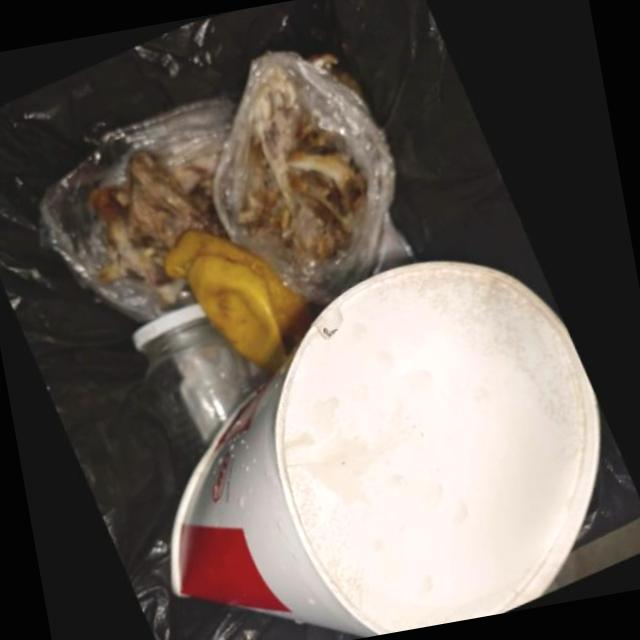carton: (171, 256, 606, 637)
chai_thuy_tinh: (136, 296, 257, 443)
thuc_an_thua: (242, 60, 373, 255), (95, 131, 233, 294)
tui_ni_long: (217, 39, 423, 309), (45, 95, 243, 309)
vo_trai_cay: (169, 222, 319, 369)
